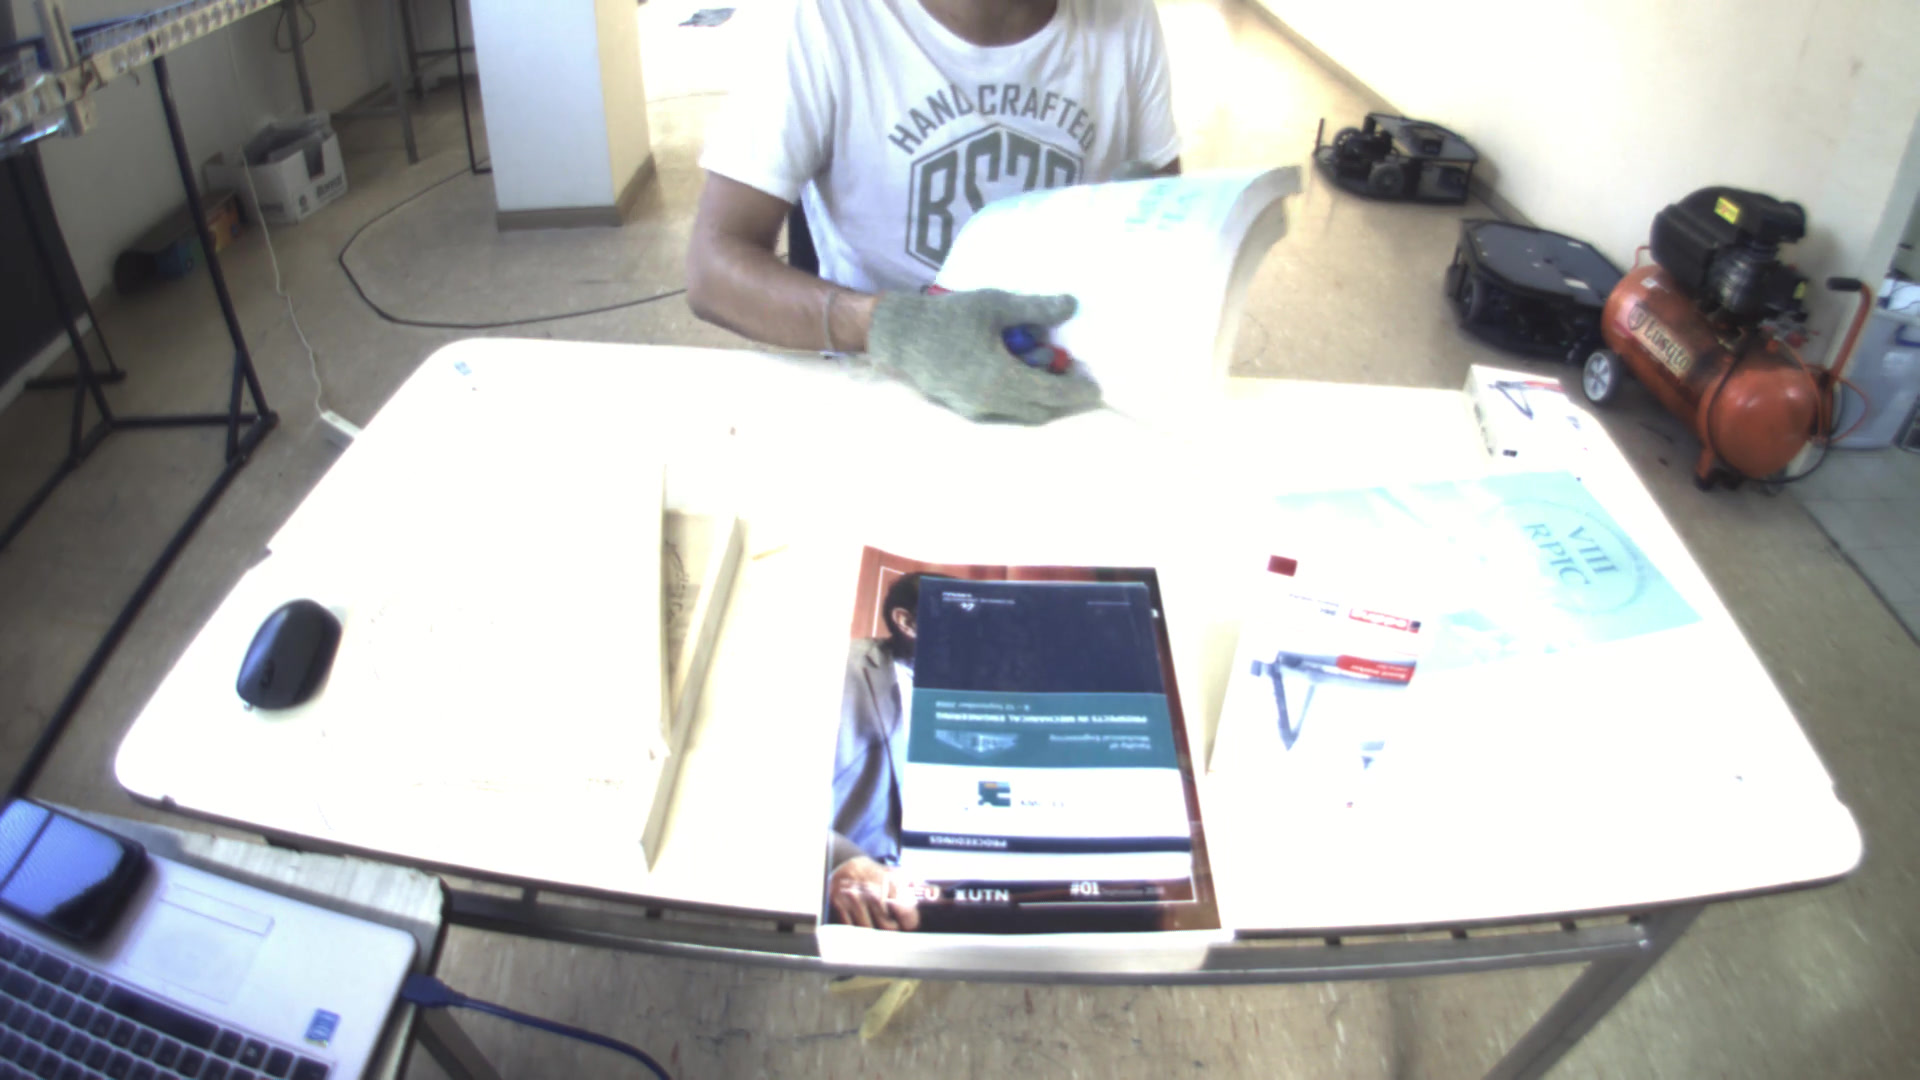hand: (853, 269, 1109, 433)
